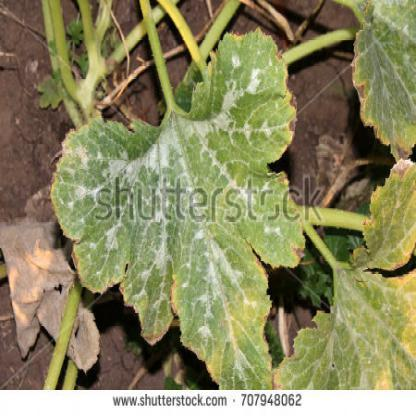Squash Powdery mildew leaf: (42, 20, 310, 390)
